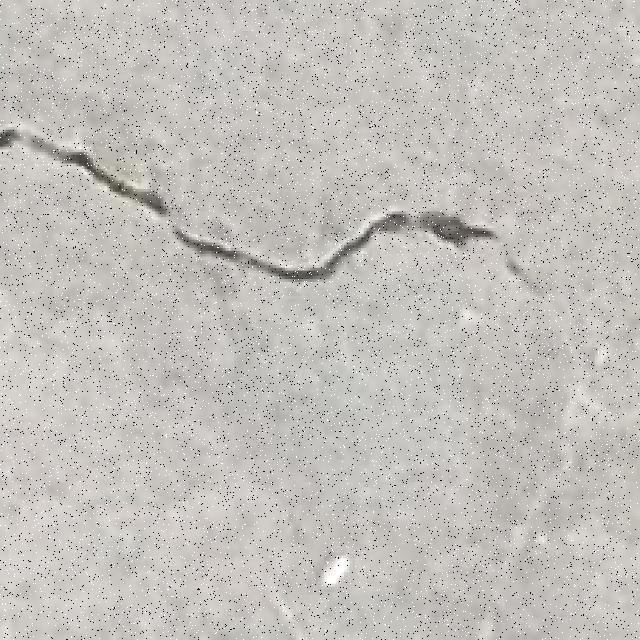crack: (3, 87, 552, 336)
